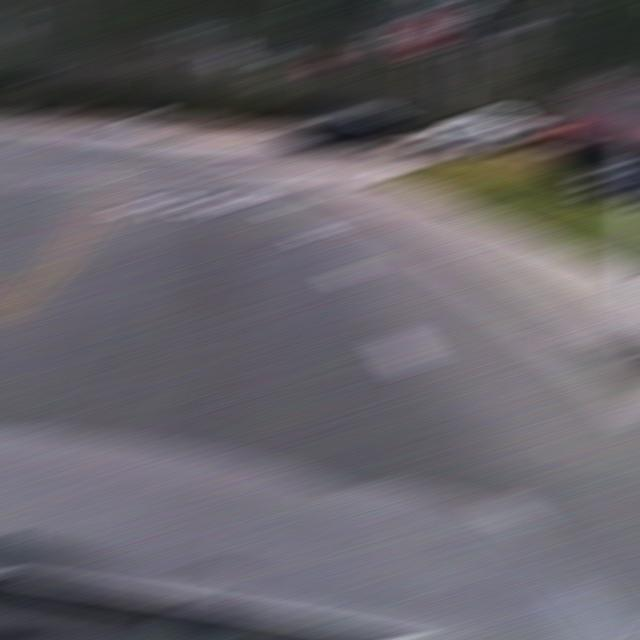stop_sign: (397, 11, 450, 54), (305, 52, 340, 77)
